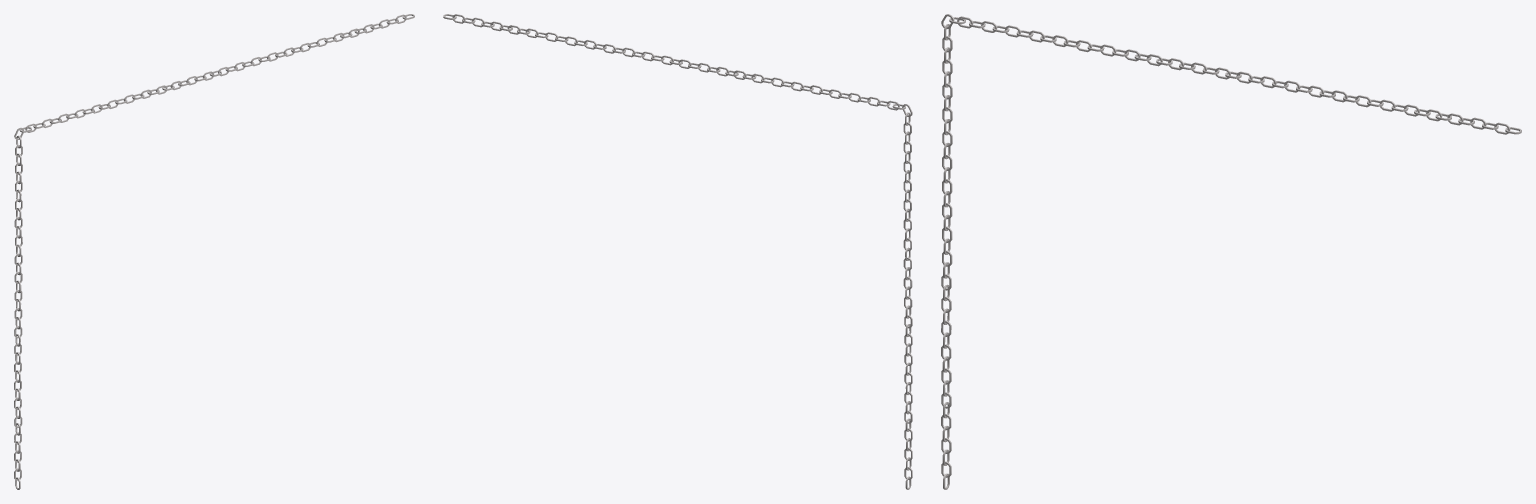
3 views of the same model, side by side, from view 1: azimuth 30°, elevation 25°; view 2: azimuth 150°, elevation 25°; view 3: azimuth 330°, elevation 25° (orthographic). The views are drawn at different scales.
Parts seen in each view (by area): view 1: C_L_5; view 2: C_L_5; view 3: C_L_5.
Part boxes in pixels (bbox=[...]): C_L_5: bbox=[14, 14, 414, 489]; C_L_5: bbox=[443, 14, 912, 489]; C_L_5: bbox=[941, 14, 1521, 489].
Size of the model in its own units: 185 by 152 by 18.54.
Materials: 2 (2 with a texture image).
